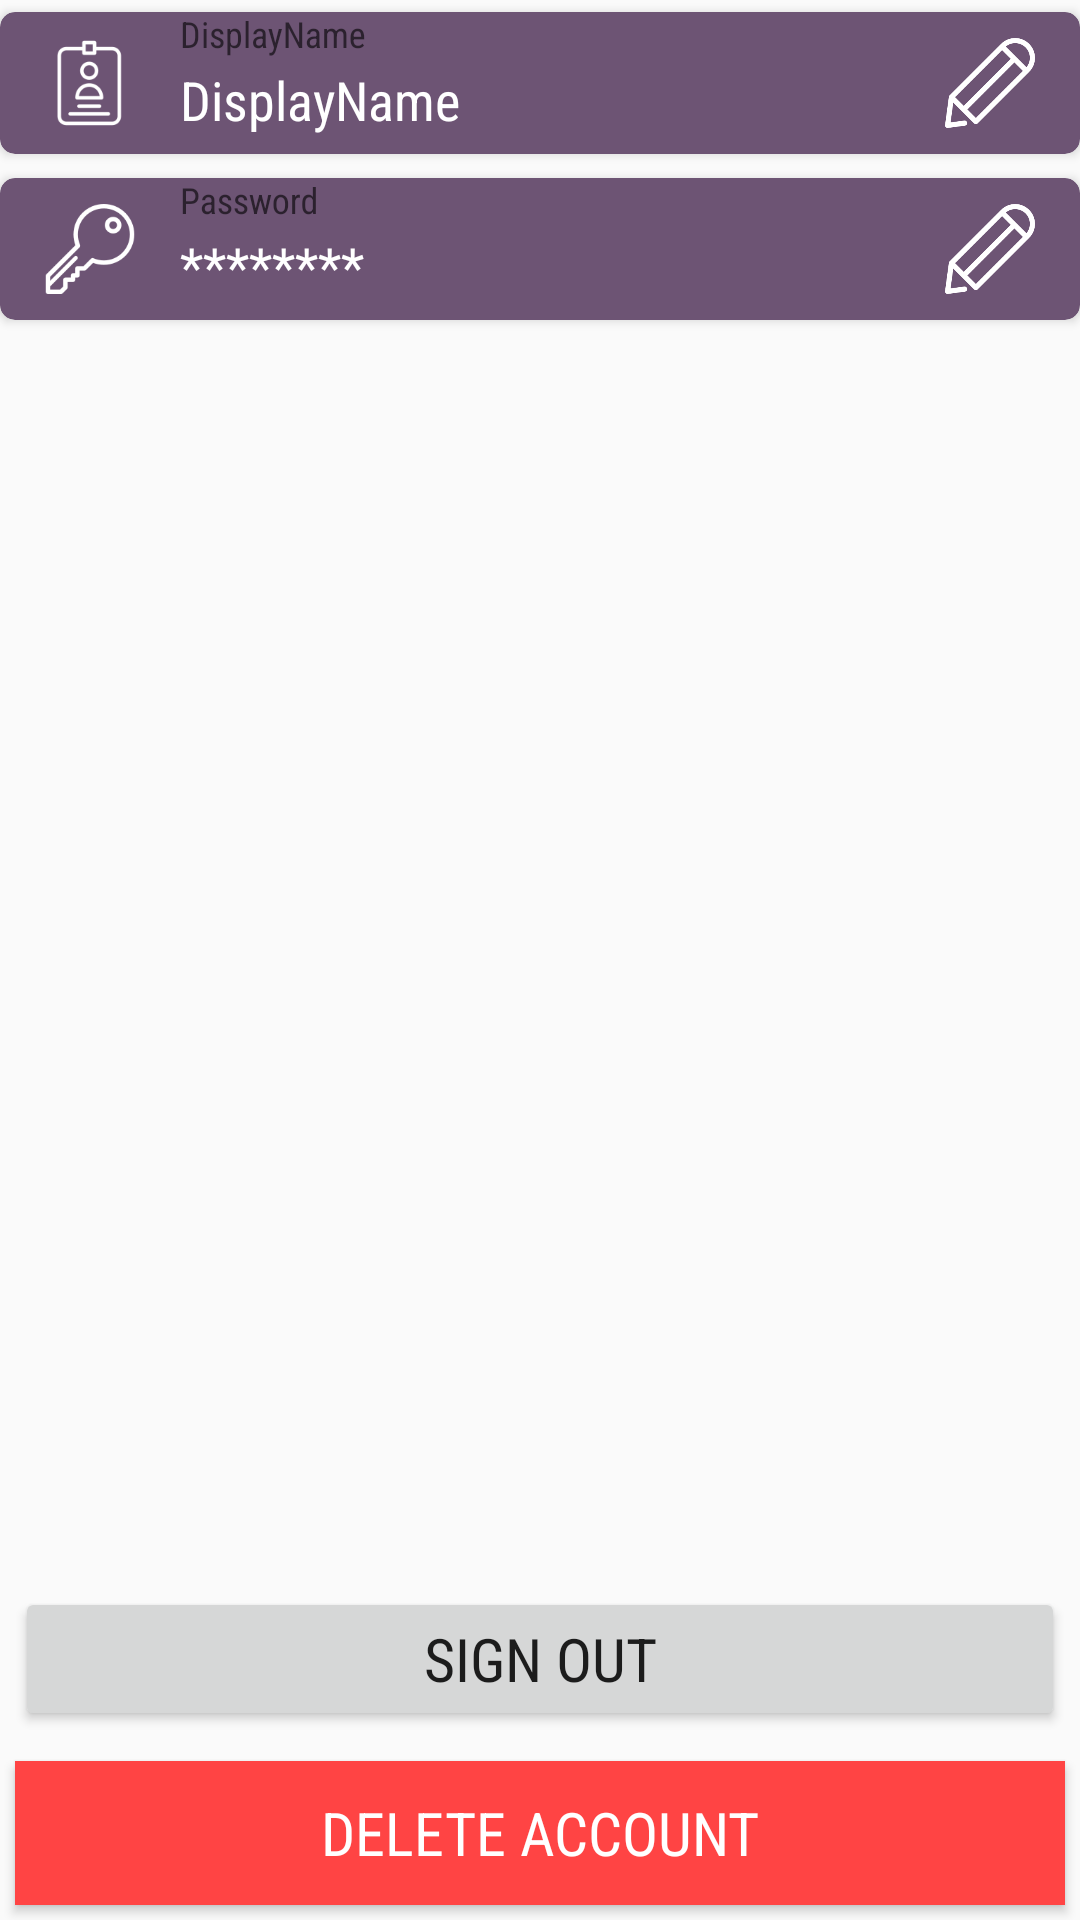

Point at icon controls on the screen. Image size 1080 x 1920, points as (x,y).
edit: (990,83), (990,249)
